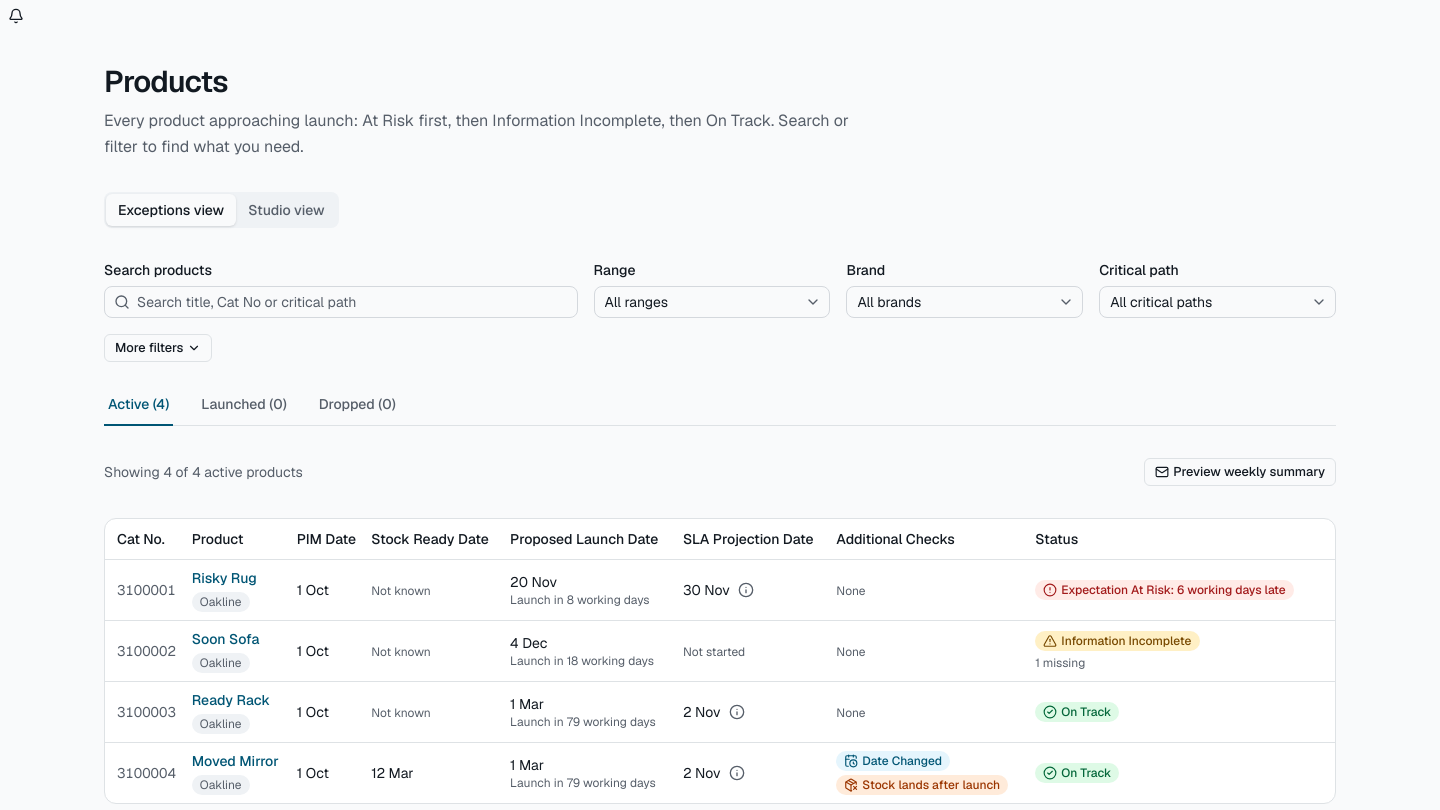
Test: Weekly summary preview › sends a simulated email to the chosen recipient with a toast and a notification
Click the button "Preview weekly summary" at coordinates (1240, 472), box [1144,458,1336,486]
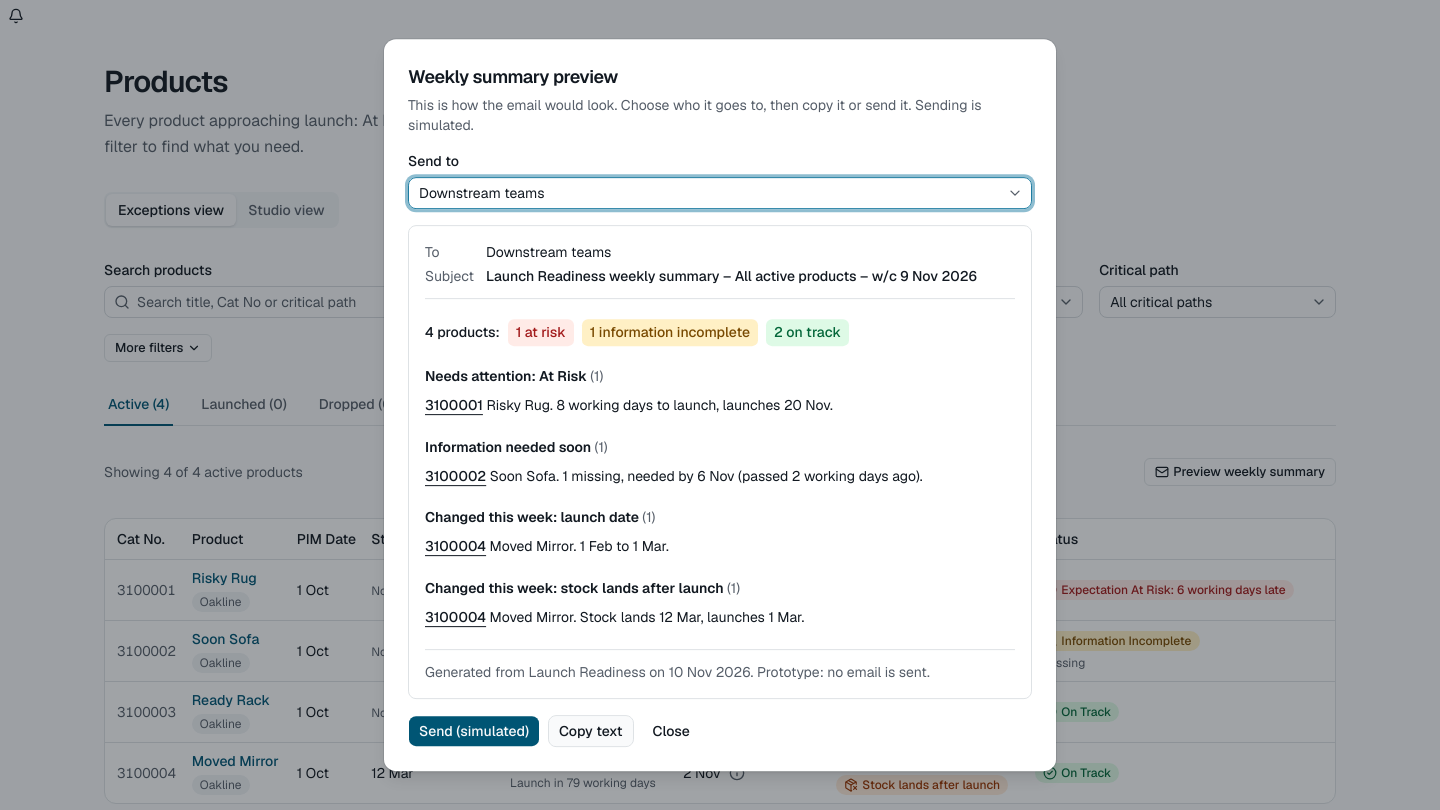
Click the button "Send (simulated)" at coordinates (474, 731), box [408,715,540,747]
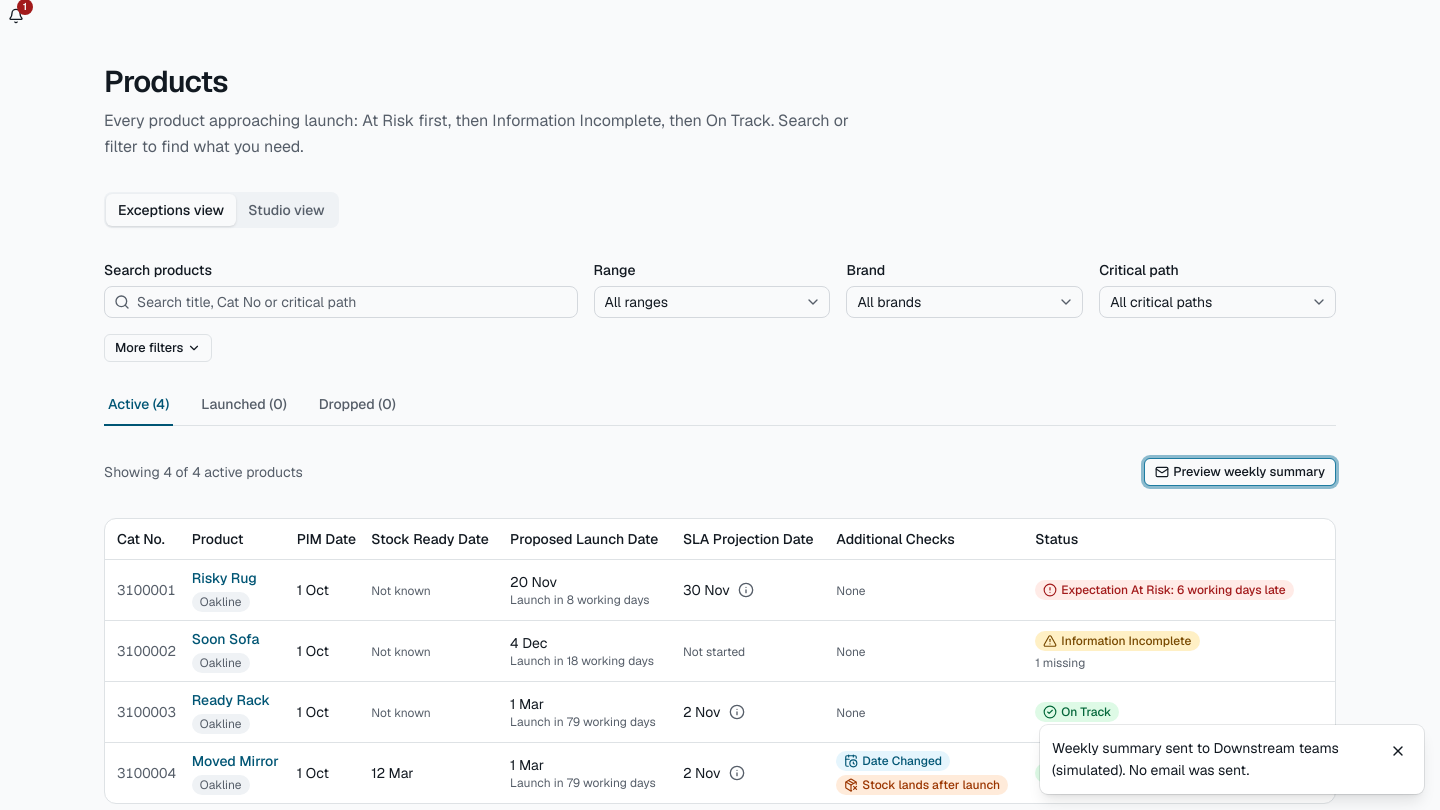
Expected: the heading "Weekly summary preview" is gone
Expected: the text "Weekly summary sent to Downstream teams (simulated). No email was sent." is shown, [1052,736,1376,782]
Click the button named "notifications" at coordinates (16, 16), box [0,0,32,32]
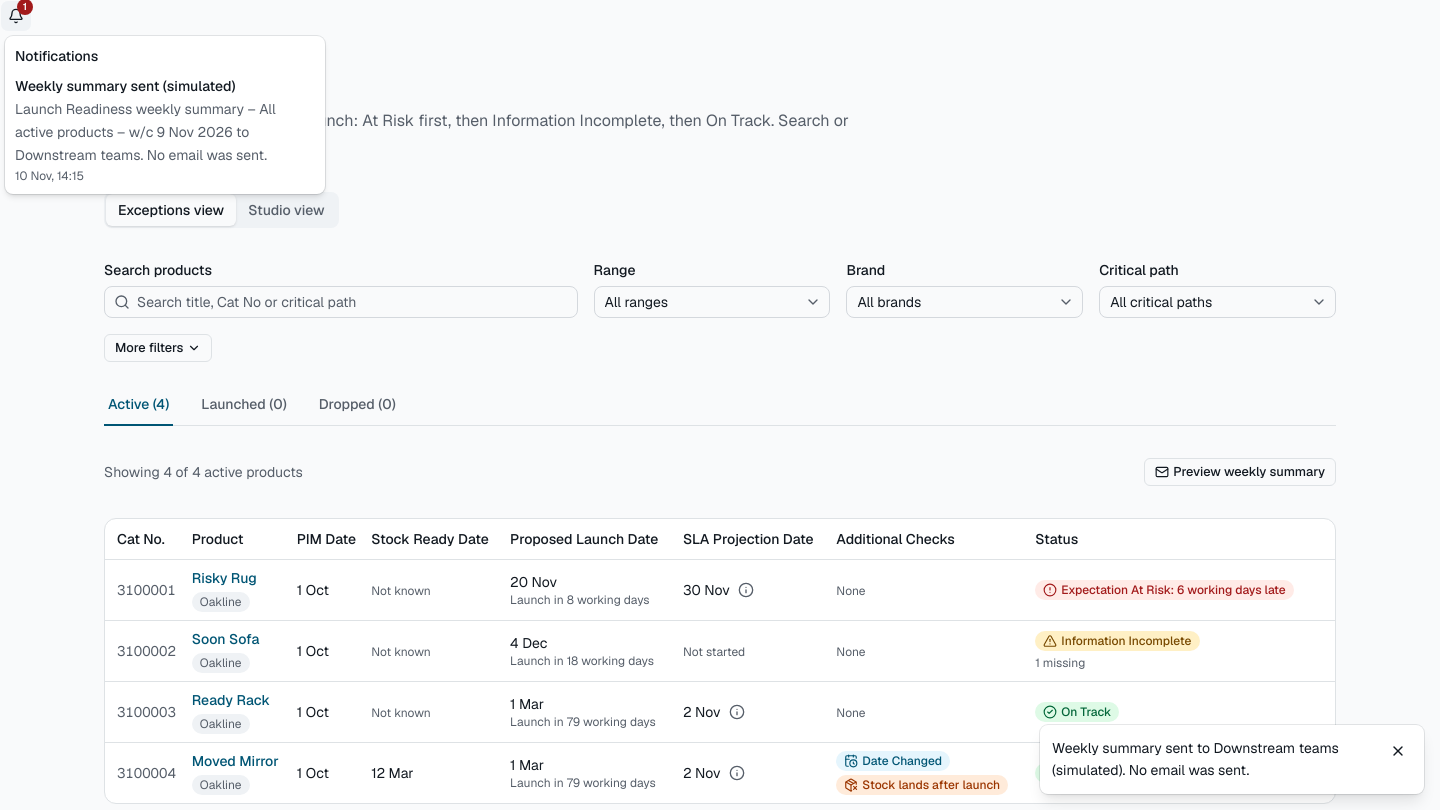
Expected: the text "Weekly summary sent (simulated)" is shown, [15,77,236,95]
